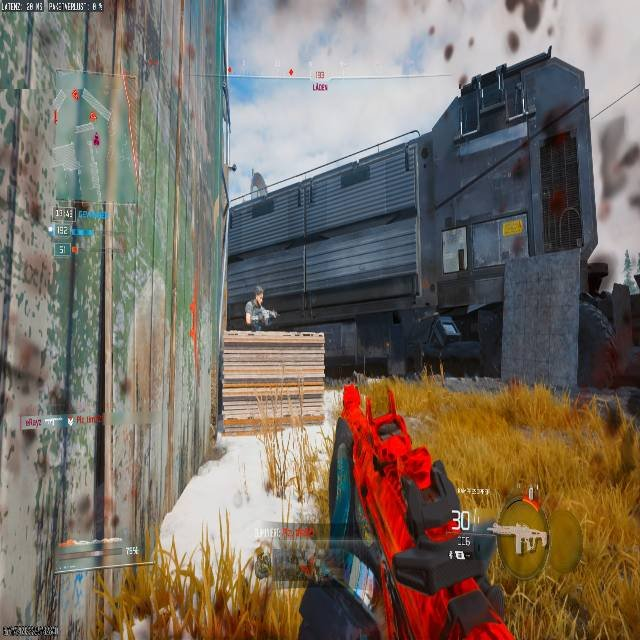head: (253, 287, 265, 304)
player: (243, 286, 277, 330)
